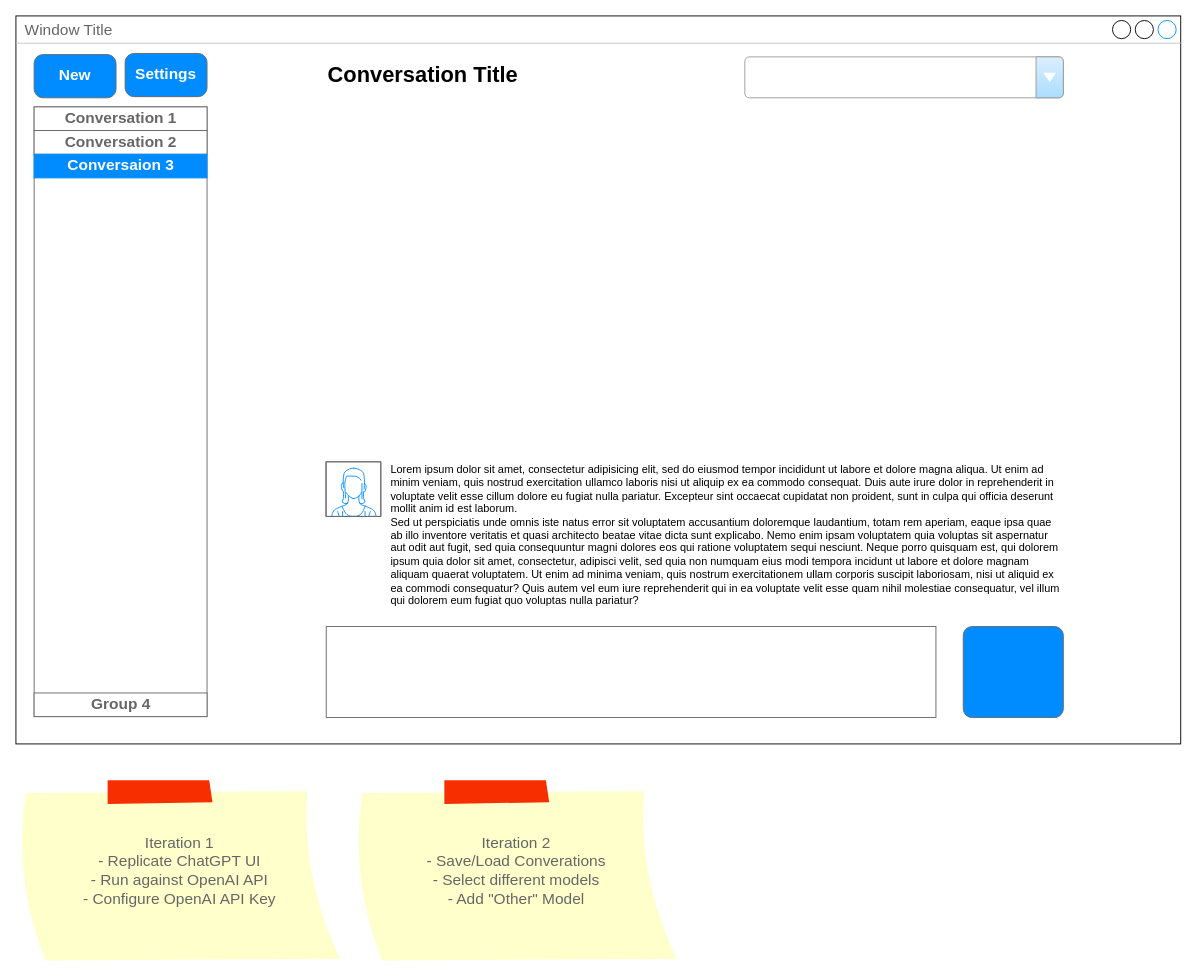
This 1197x978 diagram has some shape labels left out. Each missing label, with the centre of its shape:
<model>: the point at 903,77
Line 1: the point at 630,672
Submit: the point at 1012,672
